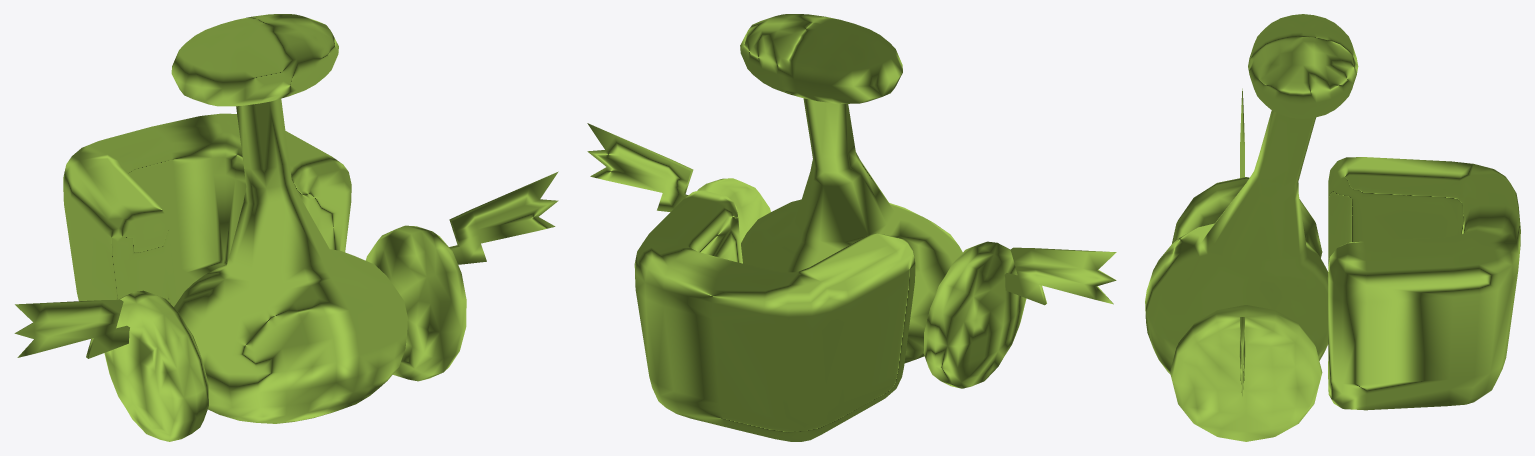
The model's file is XY_RotomMow.obj.
3 renders of one model, left to right at view 1: azimuth 30°, elevation 25°; view 2: azimuth 150°, elevation 25°; view 3: azimuth 270°, elevation 25°, orthographic. The views are drawn at different scales.
Parts seen in each view (by area): view 1: RotomMow; view 2: RotomMow; view 3: RotomMow.
Part boxes in pixels (<box>): RotomMow: <box>14,14,558,441</box>; RotomMow: <box>587,14,1116,441</box>; RotomMow: <box>1145,14,1520,441</box>.
Bounding box in the file's own units: 49.17 × 31.06 × 30.28.
Materials: 1 (1 with a texture image).
